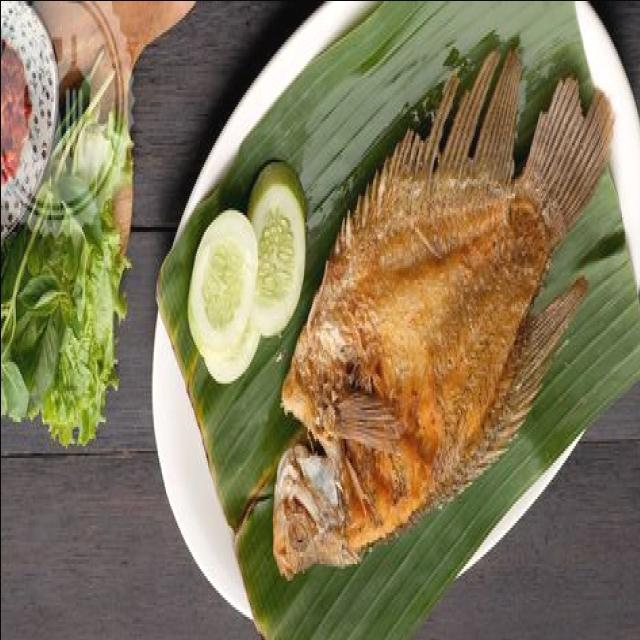ikan goreng: (269, 38, 614, 580)
